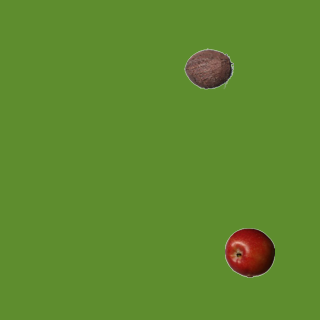Apple Braeburn: (224, 227, 274, 277)
Cocos: (183, 43, 233, 93)
